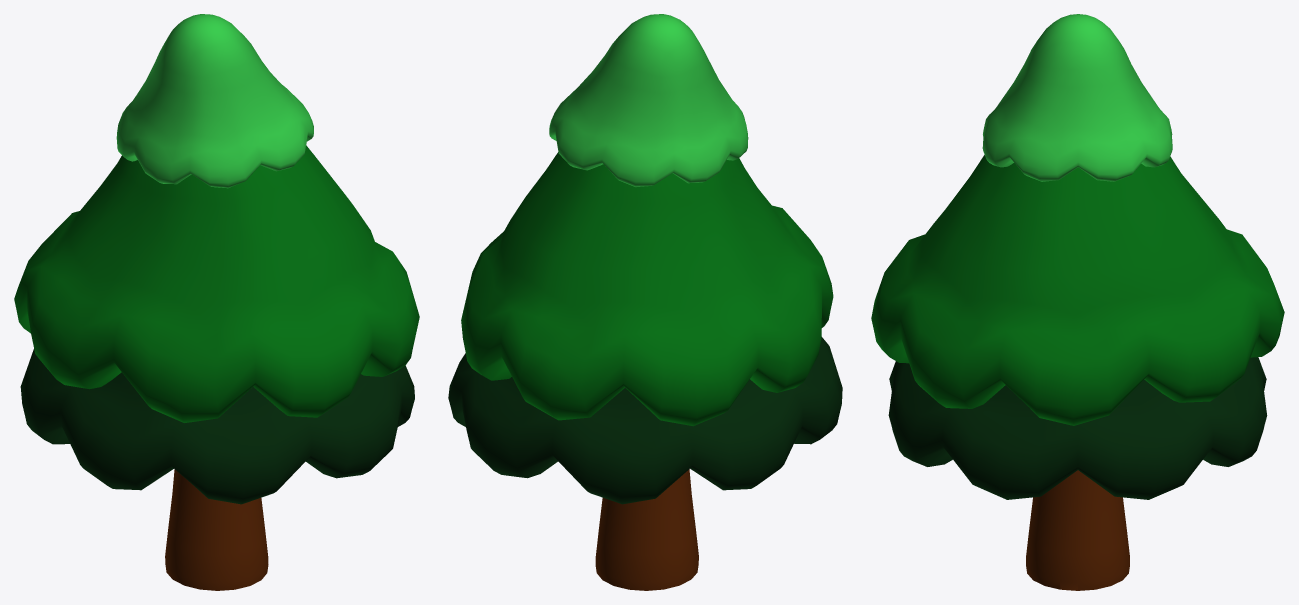
Rendered from Sapin_04.fbx.
3 views of the same model, side by side, from view 1: azimuth 30°, elevation 25°; view 2: azimuth 150°, elevation 25°; view 3: azimuth 270°, elevation 25° (orthographic).
Parts seen in each view (by area): view 1: Feuilles_Milieu_low, Feuilles_Bas_low, Feuilles_Haut_low, Tronc_low; view 2: Feuilles_Milieu_low, Feuilles_Bas_low, Feuilles_Haut_low, Tronc_low; view 3: Feuilles_Milieu_low, Feuilles_Bas_low, Feuilles_Haut_low, Tronc_low.
Boxes of the visible parts, <box> form: Feuilles_Milieu_low: <box>14,145,419,422</box>; Feuilles_Bas_low: <box>20,349,414,504</box>; Feuilles_Haut_low: <box>116,14,313,188</box>; Tronc_low: <box>165,469,268,590</box>; Feuilles_Milieu_low: <box>461,152,833,426</box>; Feuilles_Bas_low: <box>448,337,842,504</box>; Feuilles_Haut_low: <box>549,14,748,186</box>; Tronc_low: <box>595,469,698,590</box>; Feuilles_Milieu_low: <box>871,155,1284,425</box>; Feuilles_Bas_low: <box>888,357,1267,499</box>; Feuilles_Haut_low: <box>982,14,1172,181</box>; Tronc_low: <box>1026,470,1129,590</box>.
Bounding box in the file's own units: 86.94 × 138 × 94.76.
